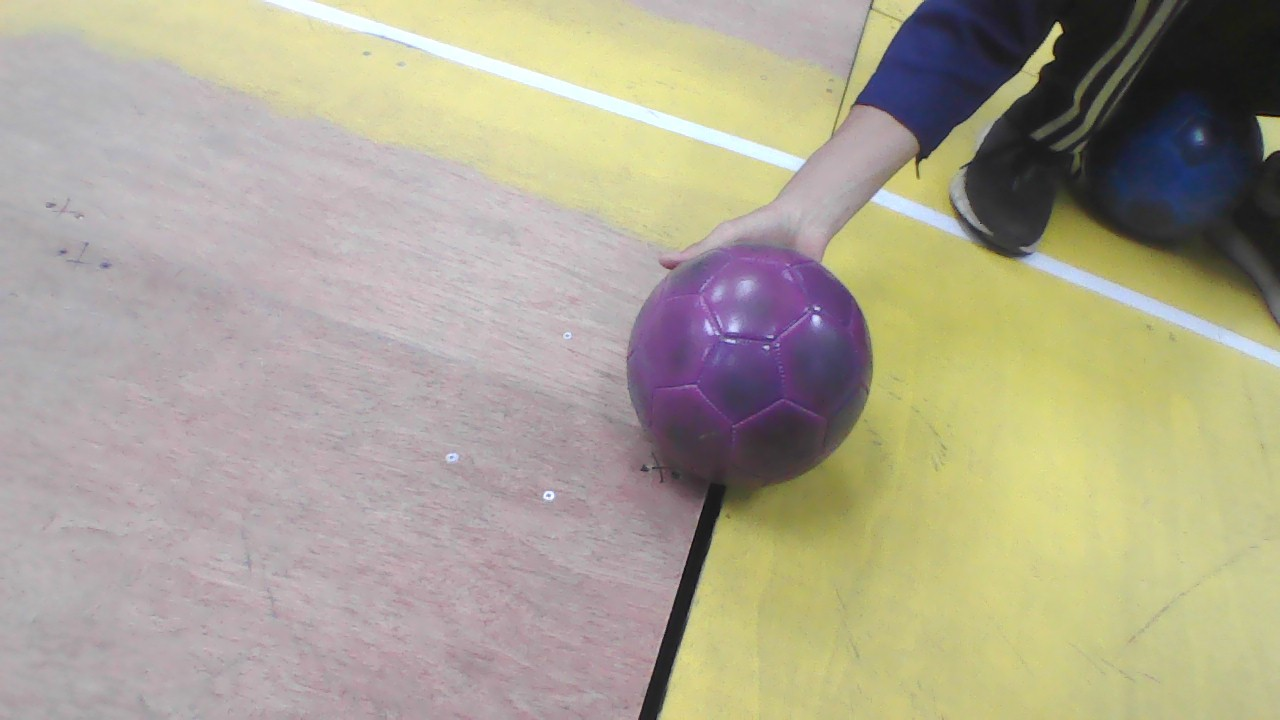Purple: (628, 245, 873, 484)
